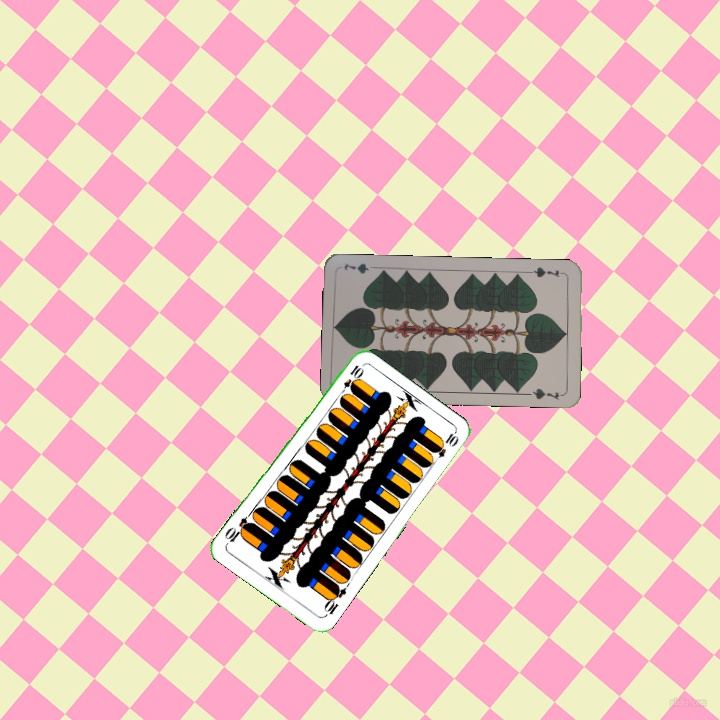E10: (335, 361, 365, 398), (320, 581, 349, 619)
G7: (527, 263, 567, 280)
